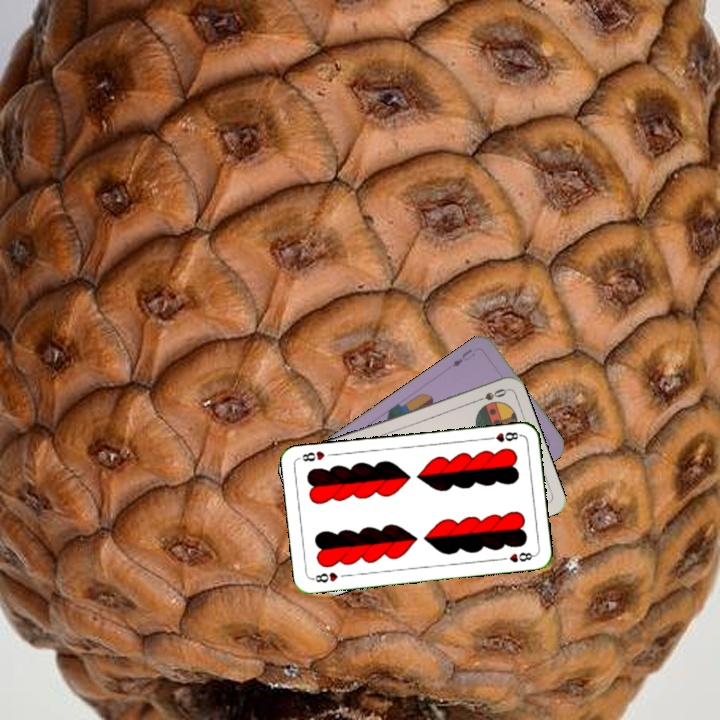EU: (448, 345, 478, 370)
H8: (483, 428, 523, 444), (308, 568, 340, 585)
SO: (470, 384, 509, 405)
